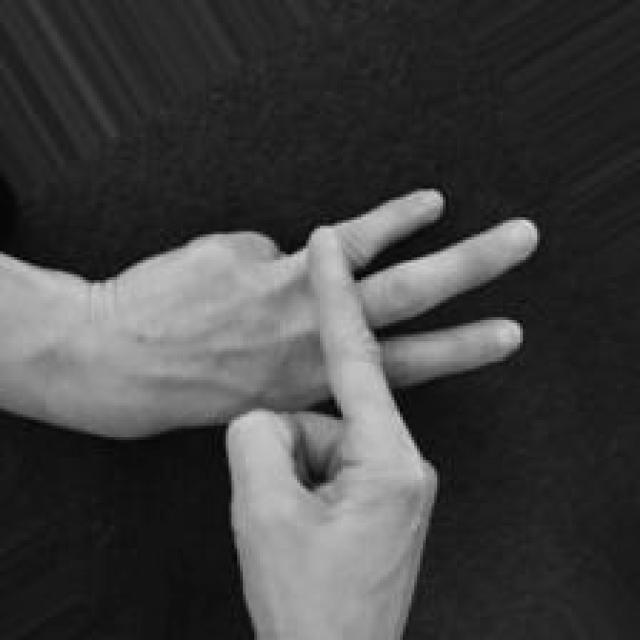E: (101, 181, 541, 638)
